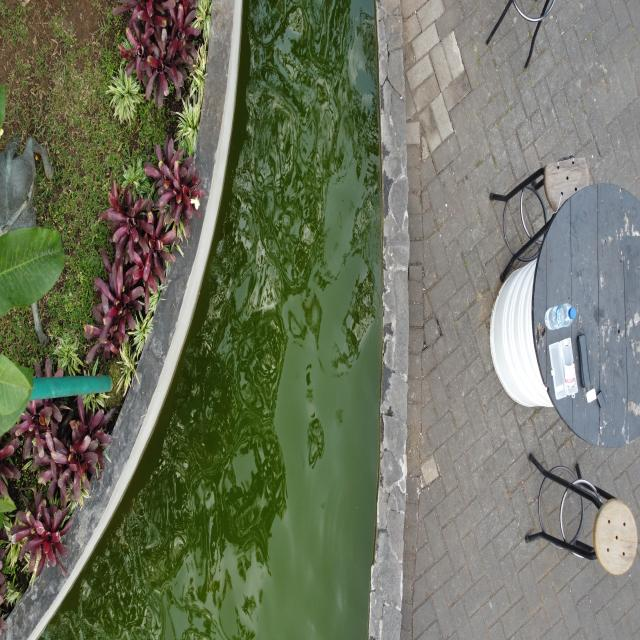Ponds: (1, 1, 410, 640)
